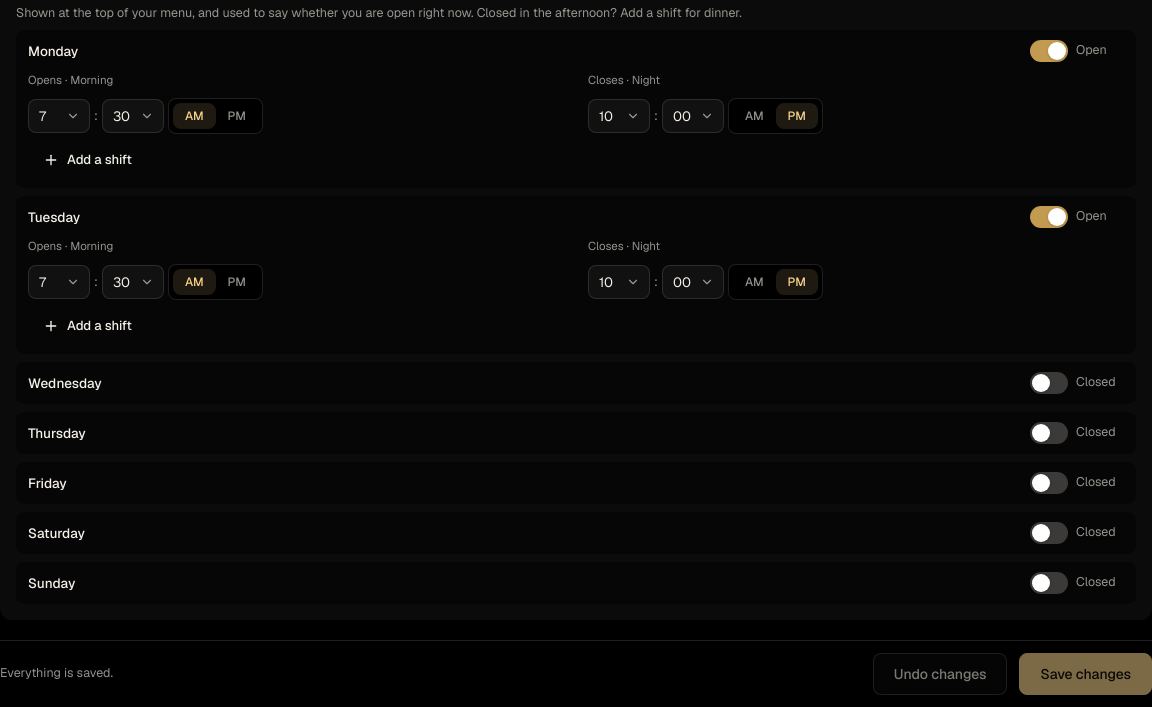
Test case: RestaurantPage › fills the opening hours, day by day, as a clock reads them
The width and height of the screenshot is (1152, 707).
(page scrolled)
Expected: the dropdown named "Monday opens: hour" holds "7", [29, 100, 89, 132]
Expected: the dropdown named "Monday opens: minutes" holds "30", [103, 100, 163, 132]
Click the switch named "Wednesday is open".
click(1049, 383)  # box [1030, 372, 1068, 394]
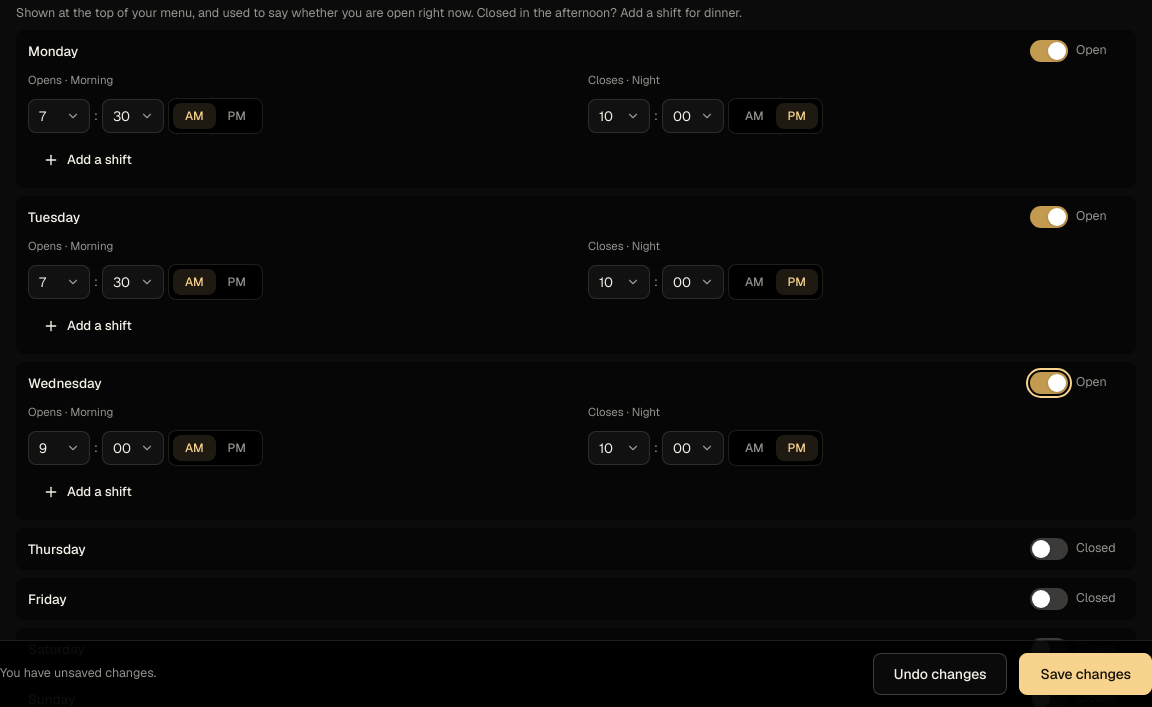
Now the dropdown named "Wednesday opens: hour" holds "9", box [29, 432, 89, 464]
